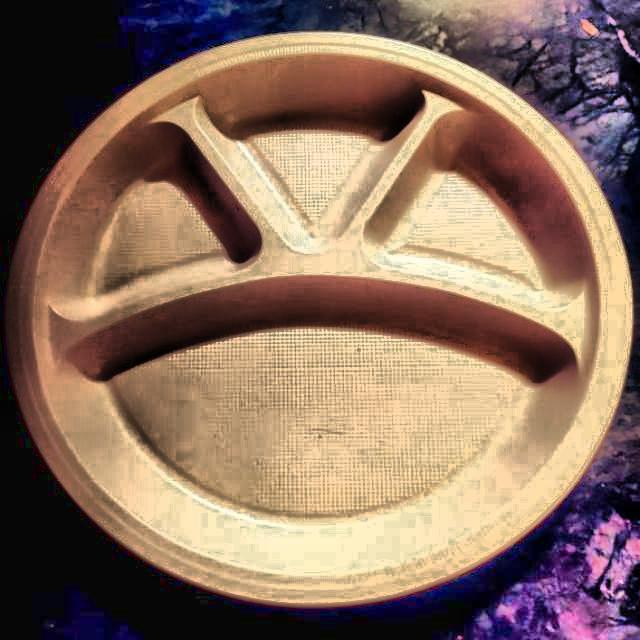plastic: (5, 31, 636, 610)
